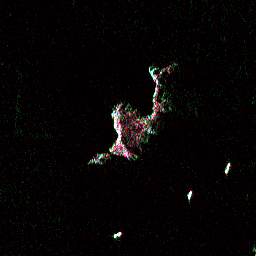ship: (222, 161, 232, 175), (186, 188, 194, 201), (112, 230, 123, 239)
